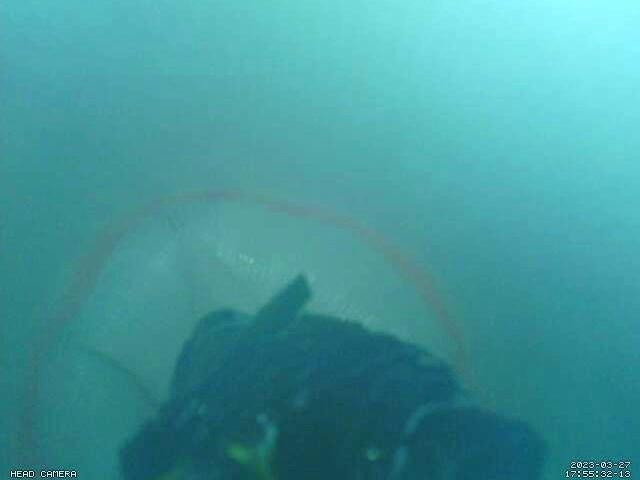head: (20, 186, 465, 480)
